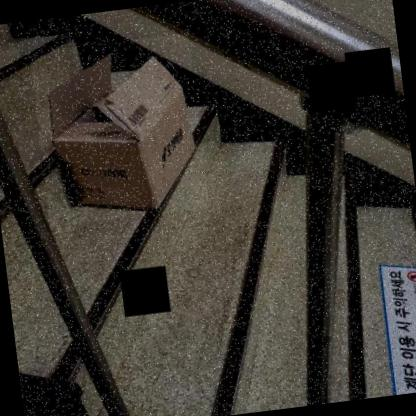box: (29, 32, 209, 226)
